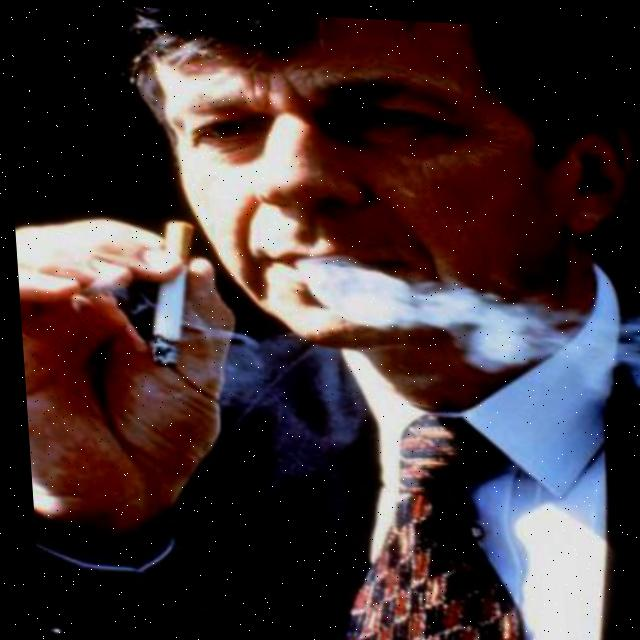cigarette: (128, 211, 206, 374)
